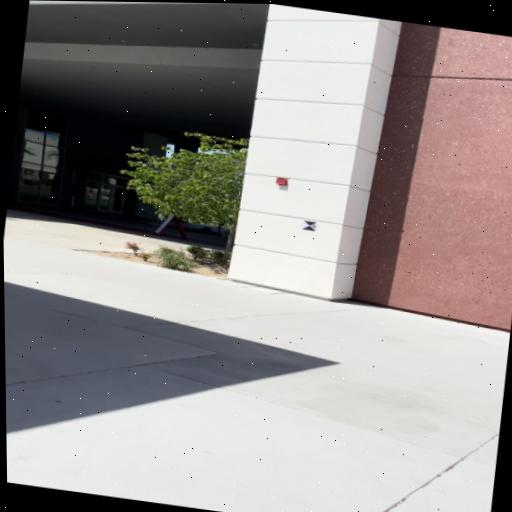target6: (302, 221, 318, 231)
